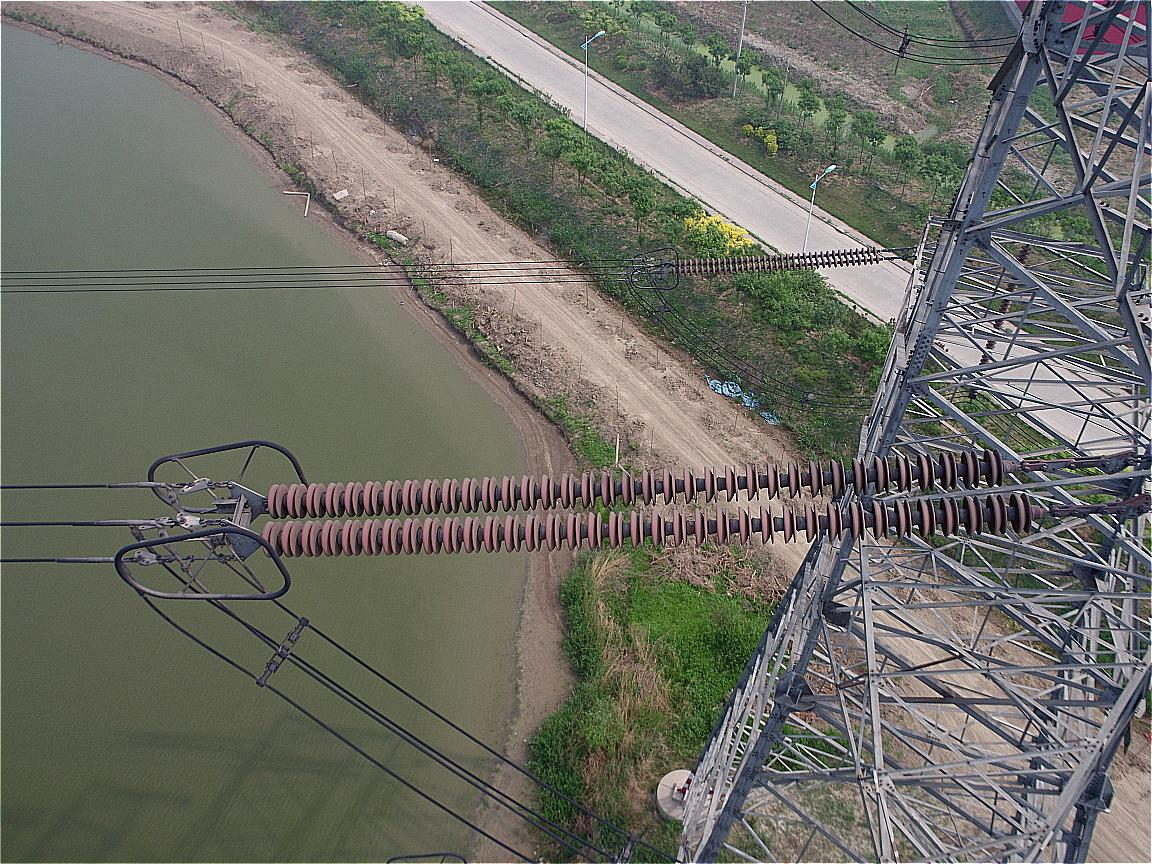insultor1: (671, 235, 896, 276)
insultor2: (232, 434, 1078, 570)
